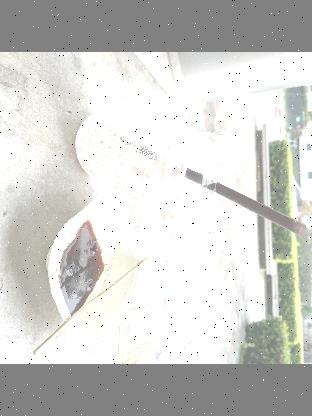Others: (43, 186, 146, 356), (72, 83, 208, 194), (28, 256, 151, 356), (148, 121, 238, 247), (180, 169, 308, 235)
